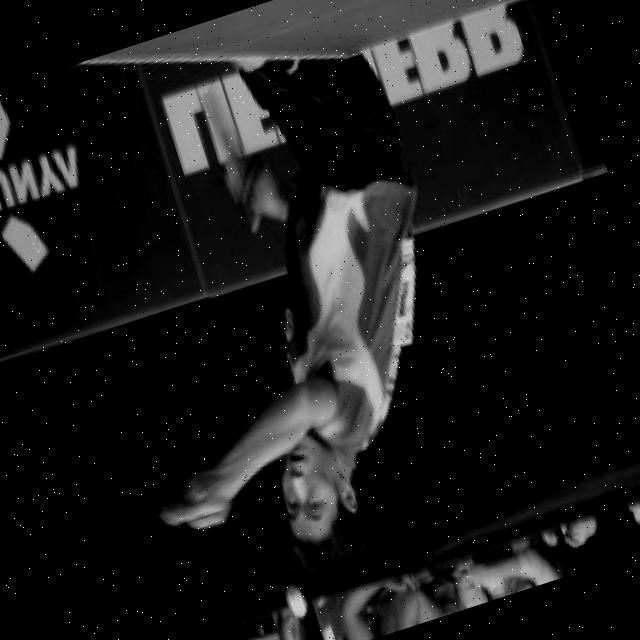ping-pong-ball: (280, 580, 311, 619)
